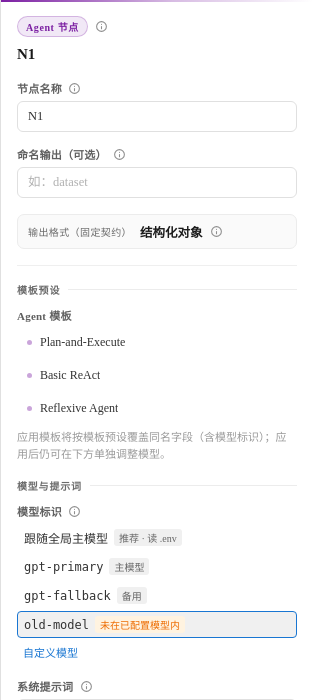
Test: NodeConfigurationPanel Agent 模板集成（P3 调用链，T3.4） › 面板级来源标注（DC-07/T5.1/T5.2）：应用成功渲染来源行、不落盘、节点切换重置（AC-NT-22/24）
Expected: the text "当前节点最近应用的模板：" is not shown
Click the element titled "Basic ReAct": (64, 375) [27,368,100,382]
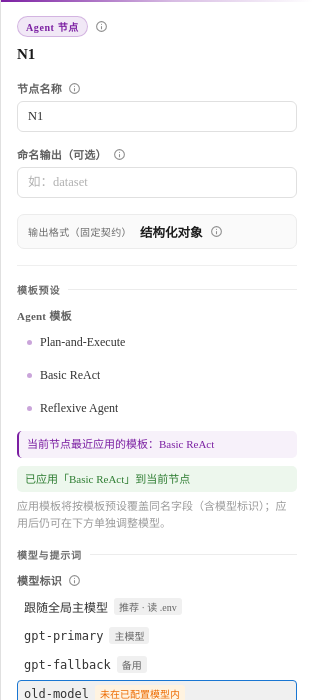
Result: the text "已应用「Basic ReAct」到当前节点" is shown at [17,466,297,492]
Result: the text "当前节点最近应用的模板：Basic ReAct" is shown at [17,431,297,458]
